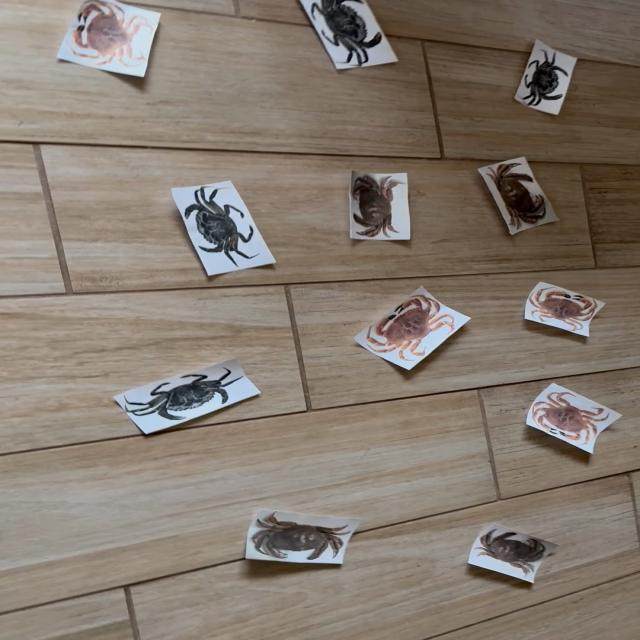egc: (114, 359, 260, 434), (172, 181, 274, 275), (299, 0, 397, 70), (516, 40, 575, 114)
